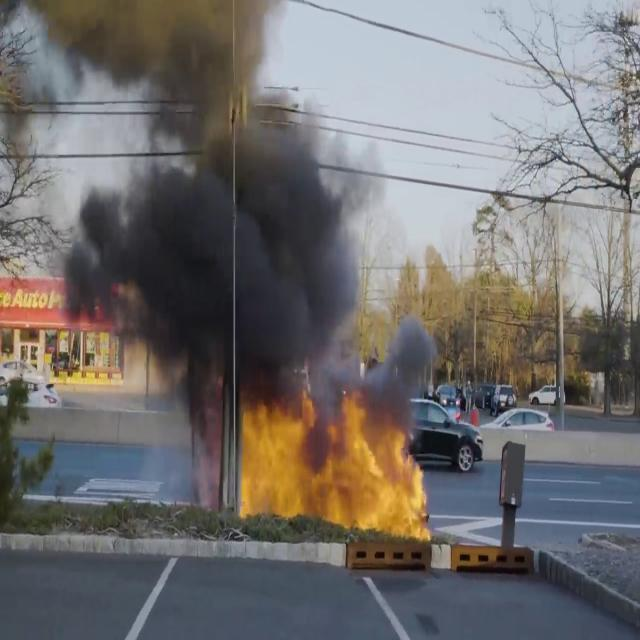Fire: (223, 378, 432, 534), (0, 274, 72, 328)
Smoke: (60, 1, 389, 412)
